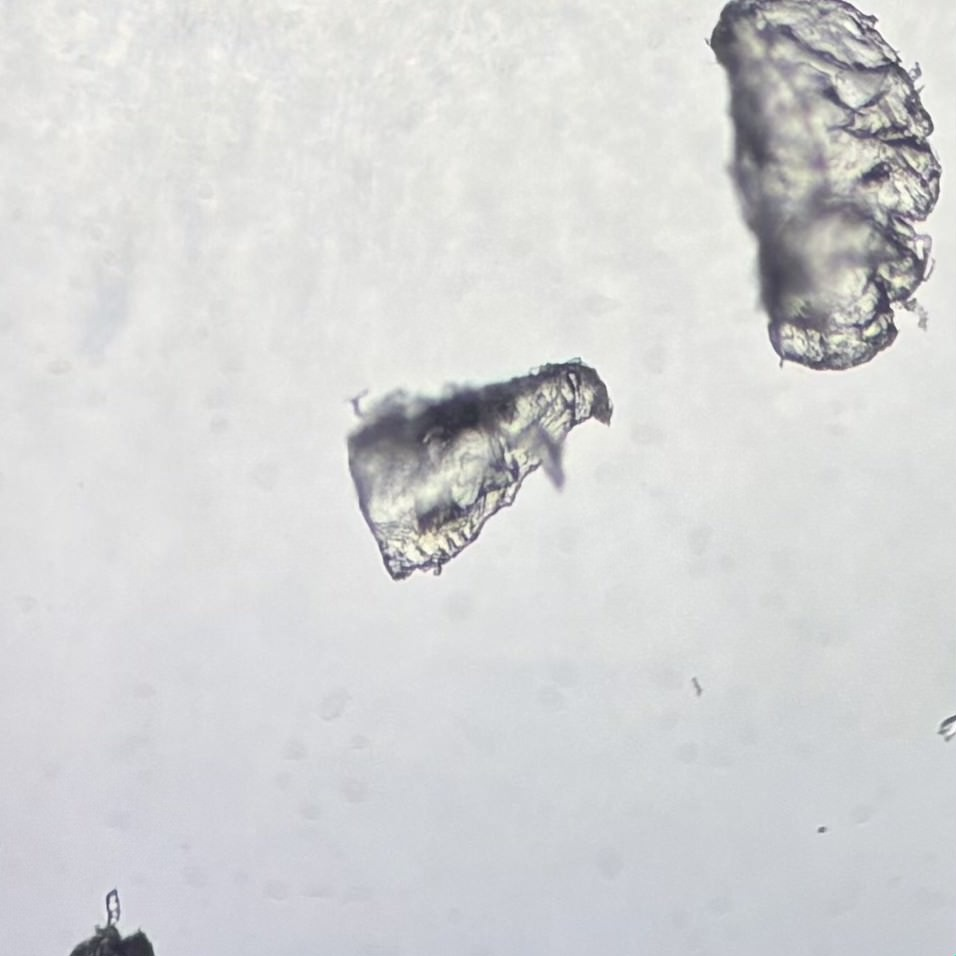microplastic: (702, 1, 942, 375), (336, 353, 630, 585), (65, 890, 157, 956), (938, 711, 956, 742)
